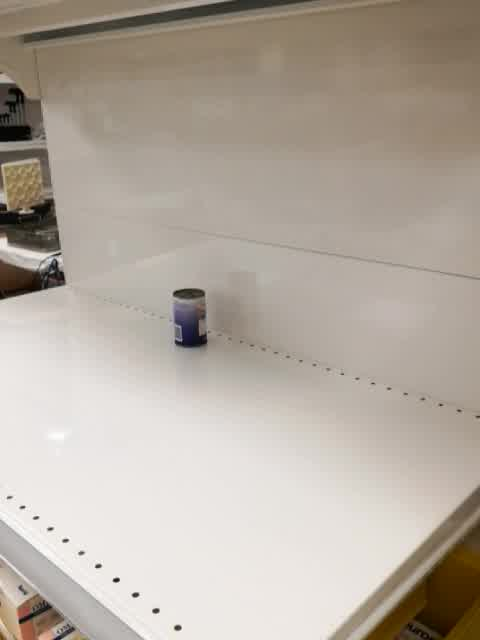sardine: (171, 287, 208, 349)
